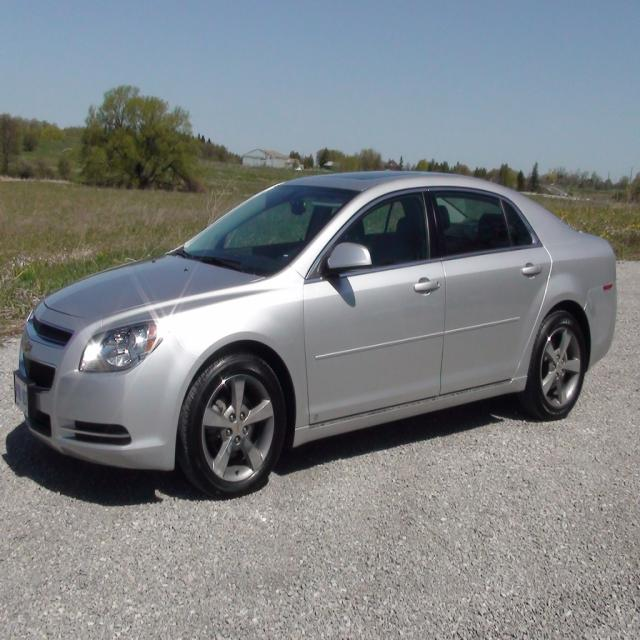car: (12, 171, 616, 499)
